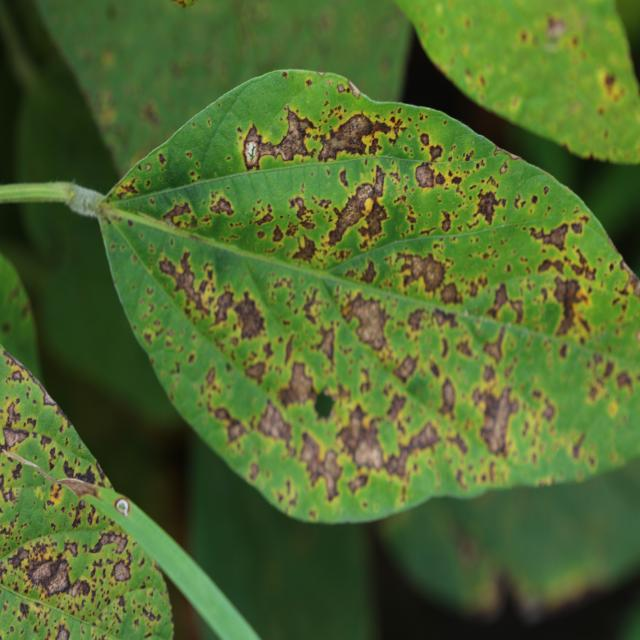Bacterial_Blight: (238, 114, 318, 183), (326, 172, 387, 247), (337, 404, 396, 481), (160, 249, 217, 320), (317, 111, 389, 163), (388, 416, 442, 476), (475, 384, 519, 455), (341, 292, 390, 354), (299, 429, 341, 498), (22, 550, 77, 598), (395, 251, 448, 298), (550, 275, 588, 335), (279, 359, 319, 410), (231, 291, 267, 341), (210, 401, 251, 444), (484, 281, 522, 326), (283, 195, 320, 235), (529, 222, 571, 252), (472, 188, 505, 225), (301, 286, 329, 328), (481, 324, 509, 365), (312, 323, 337, 364), (89, 530, 129, 555), (162, 200, 195, 228), (293, 233, 318, 264), (2, 424, 31, 449), (208, 193, 235, 216), (414, 162, 436, 189), (5, 399, 22, 425)
Soybean: (82, 70, 640, 523)
